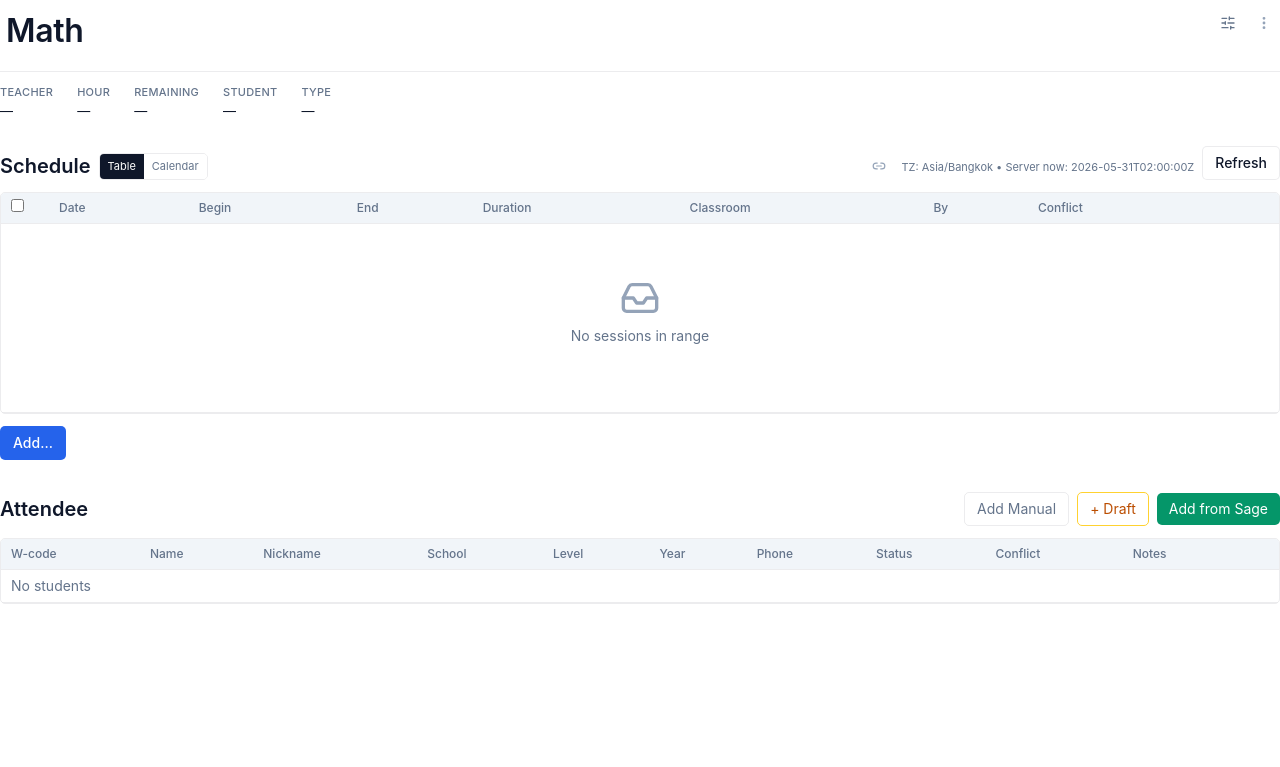
Test: CourseDetail create flows › shows the availability result inside the popover before creating
This screenshot has width=1280, height=767.
Step 1. Click the button "Add…" → (33,442), box [0,426,66,460]
(page scrolled)
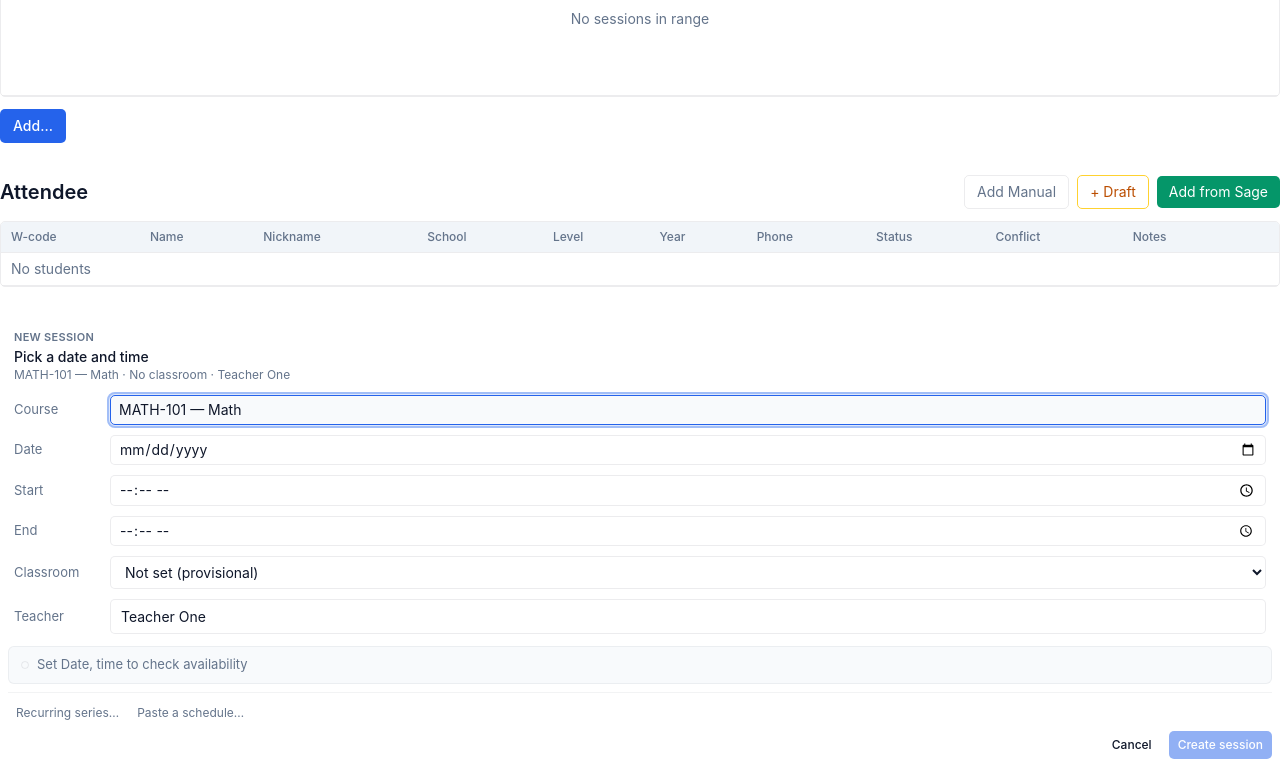
Check: the text "Set Date, time to check availability" is shown, box [37,655,248,675]
Step 2. Select "Room 101" in the dropdown labelled "Classroom" → (688,573), box [110,556,1266,589]
(page scrolled)
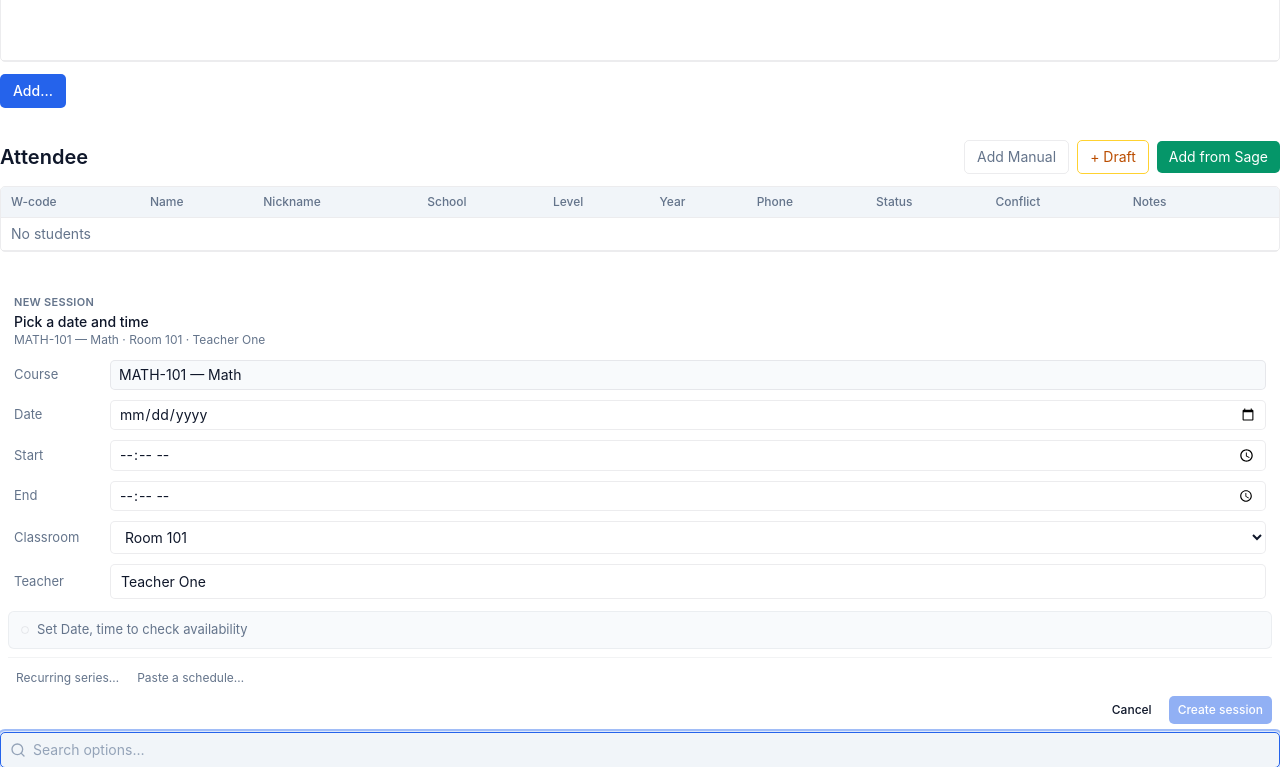
Step 3. Type "2026-05-31" into the date field labelled "Date" → (688,415), box [110,400,1266,430]
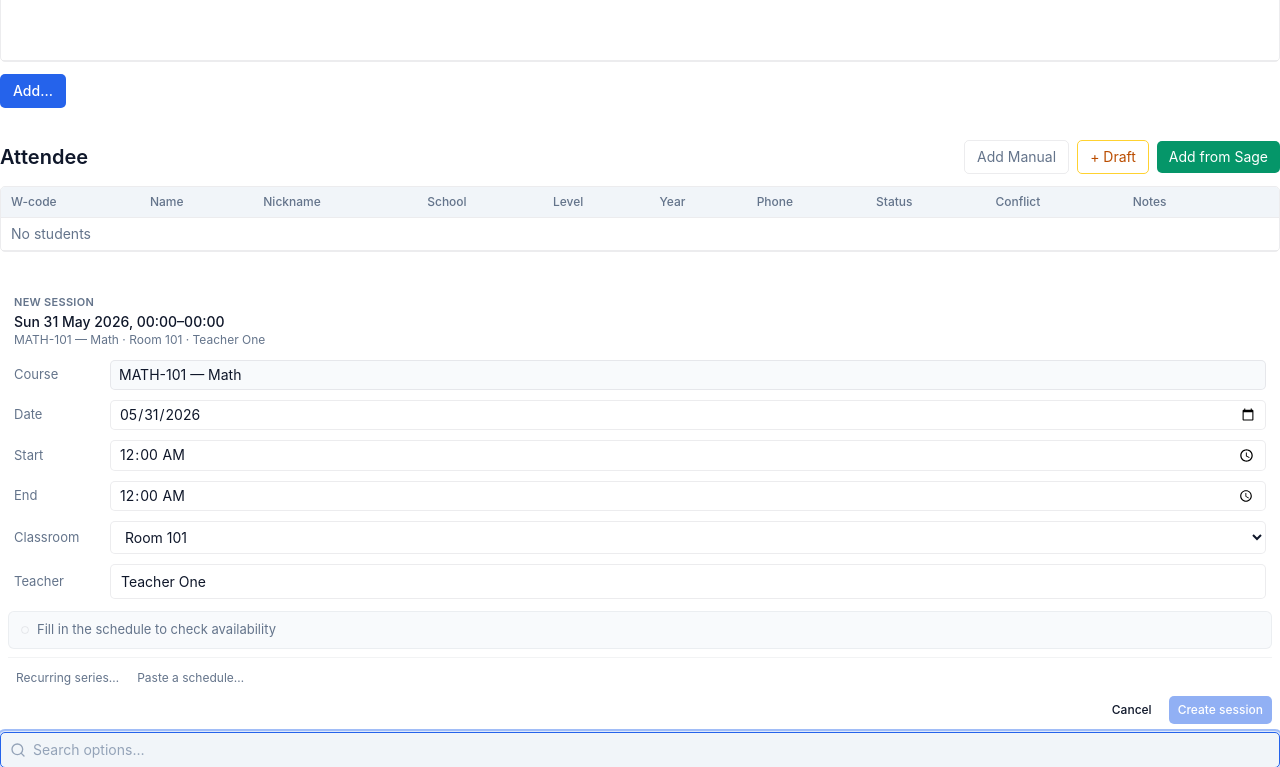
Step 4. Replace the text in the time field labelled "Start" with "10:00" → (688,455), box [110,440,1266,471]
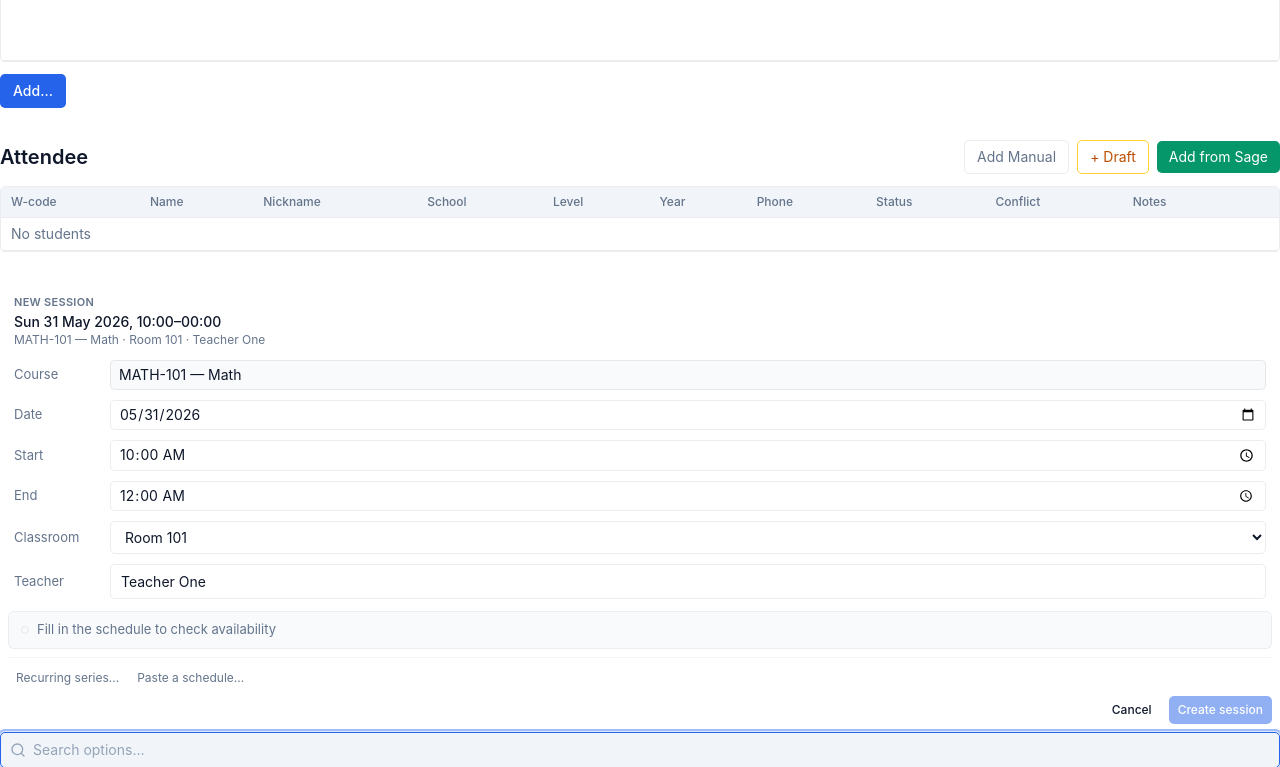
Step 5. Replace the text in the time field labelled "End" with "12:00" → (688,496), box [110,481,1266,511]
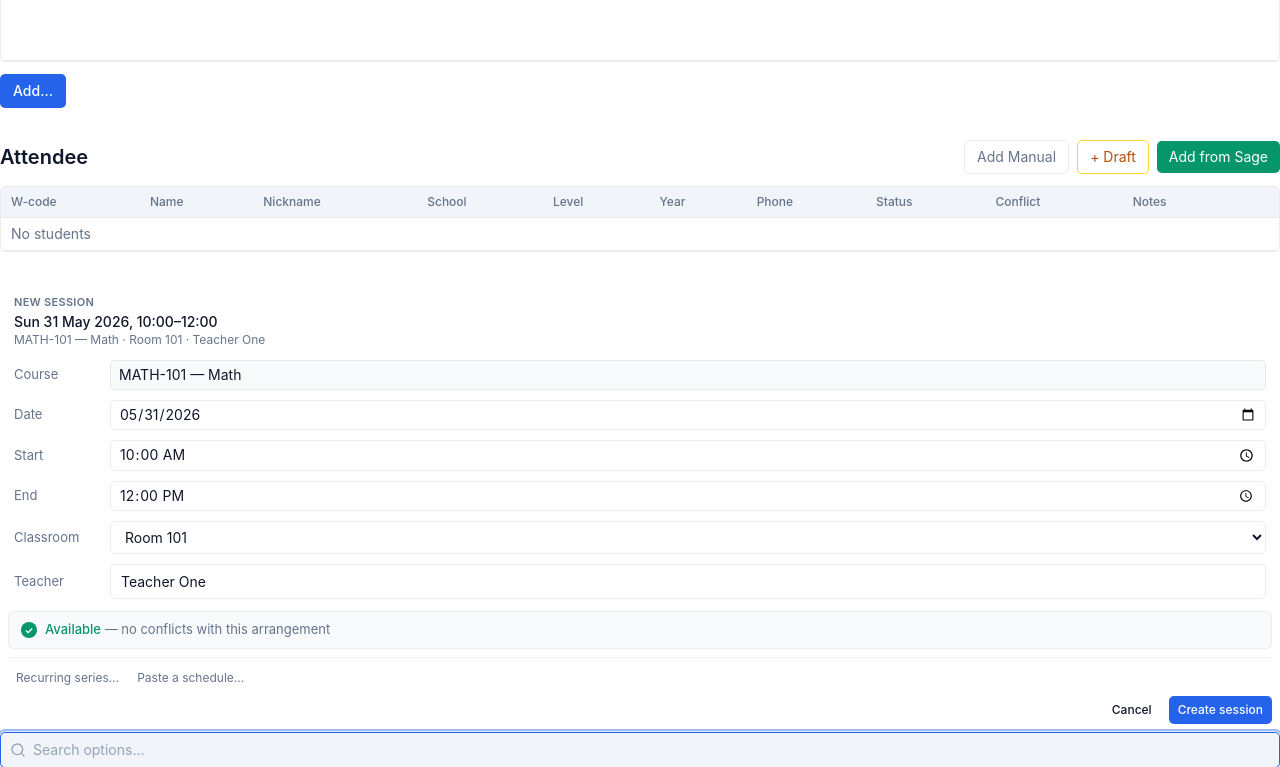
Check: the text "Available" is shown, box [45,621,101,637]
Check: the text "— no conflicts with this arrangement" is shown, box [101,621,330,637]
Check: the button "Create session" is enabled, box [1169,696,1272,724]
